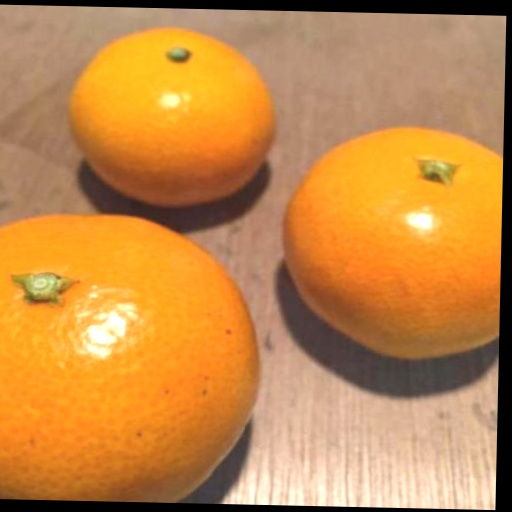fruit: (0, 215, 258, 502), (284, 129, 502, 358), (71, 28, 274, 206)
